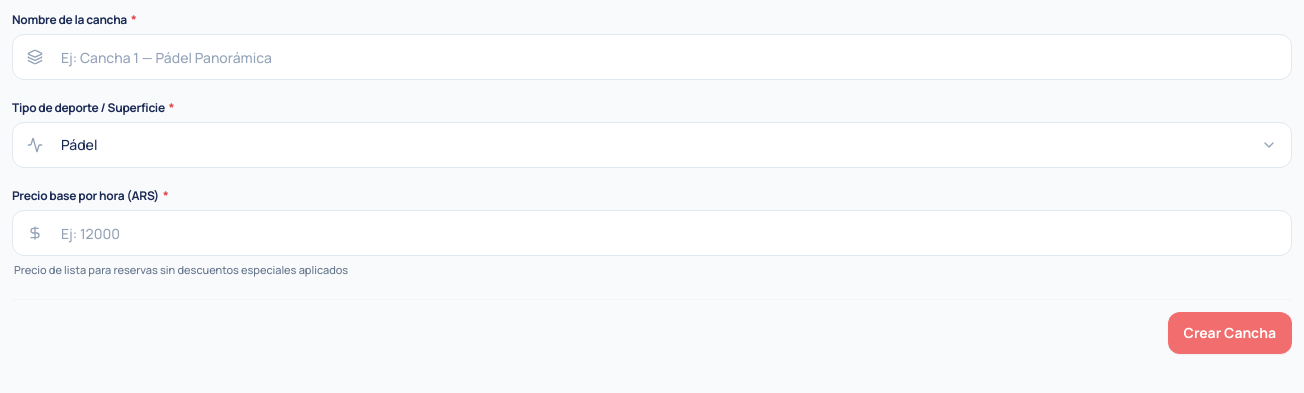
Test: CanchaForm › muestra errores de validación si los campos requeridos están vacíos
Click the button "Crear Cancha" at (1230, 332), box [1168, 312, 1292, 354]
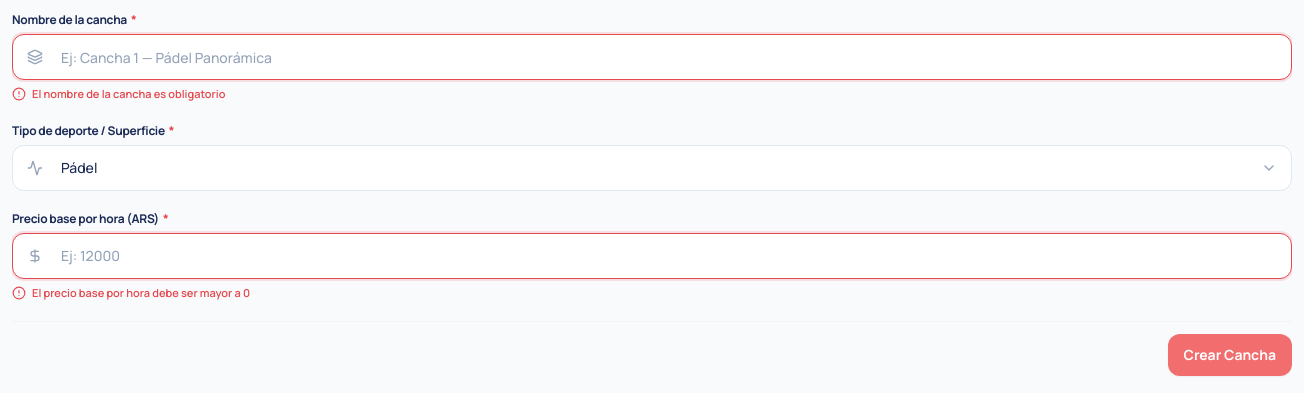
Check: the text "El nombre de la cancha es obligatorio" is shown, box [32, 86, 225, 102]
Check: the text "El precio base por hora debe ser mayor a 0" is shown, box [32, 284, 250, 301]
